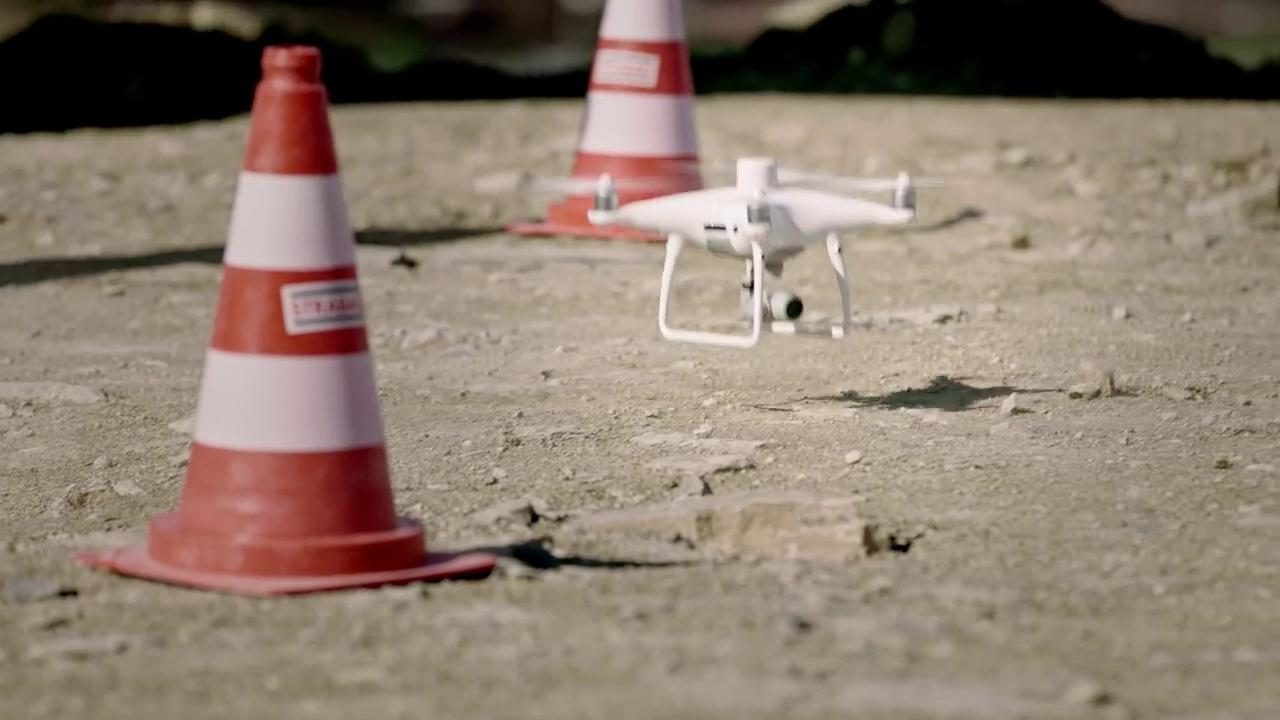drone: (560, 151, 955, 351)
